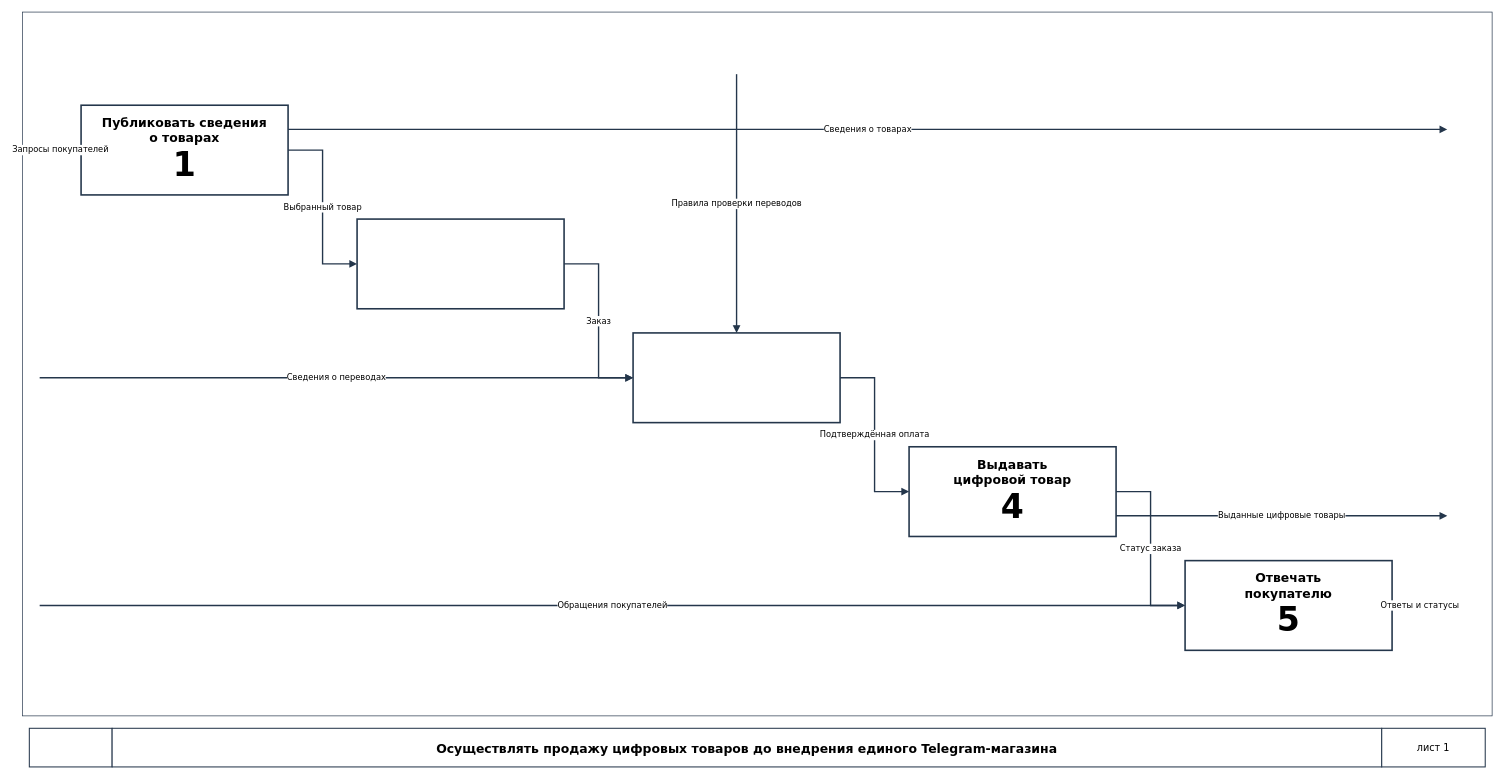
This 1504x780 diagram has some shape labels left out. The shapes that lost their labels are listed below. From the top down, each one's centre as x and y in pixels, then its label:
the point at 460,263: Принимать заказ 2
the point at 736,377: Проверять перевод 3
the point at 70,747: A0
